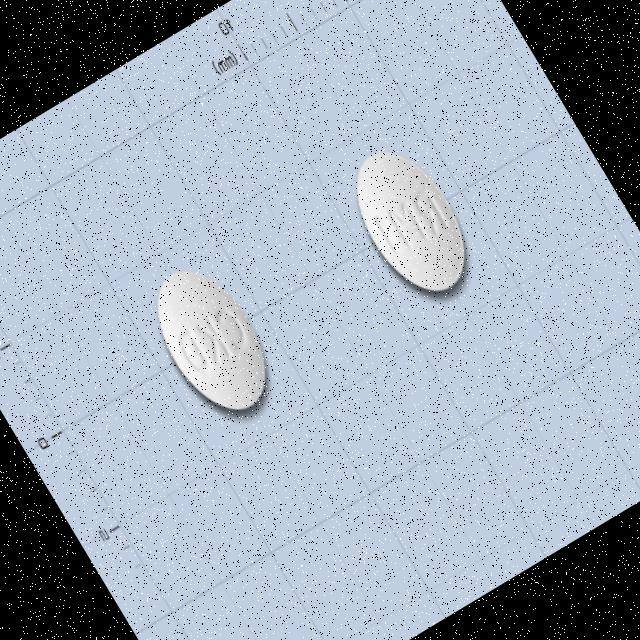Rheumide Tab: (134, 250, 288, 429), (334, 133, 486, 310)
